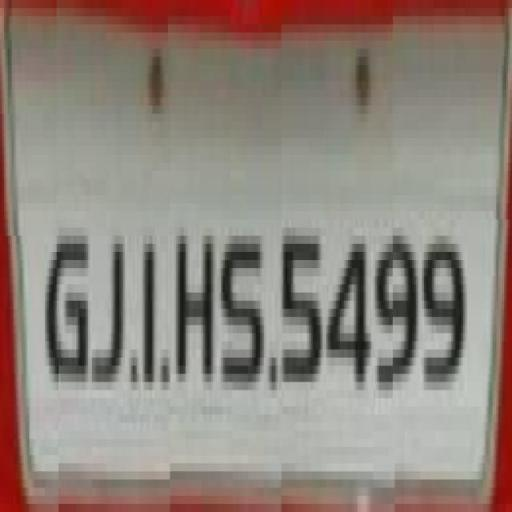number plate: (4, 24, 489, 512)
